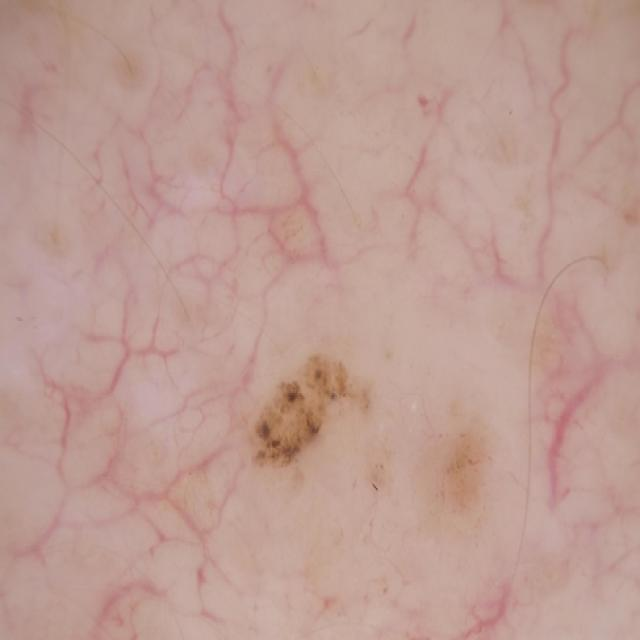Carcinoma: (193, 311, 417, 541)
